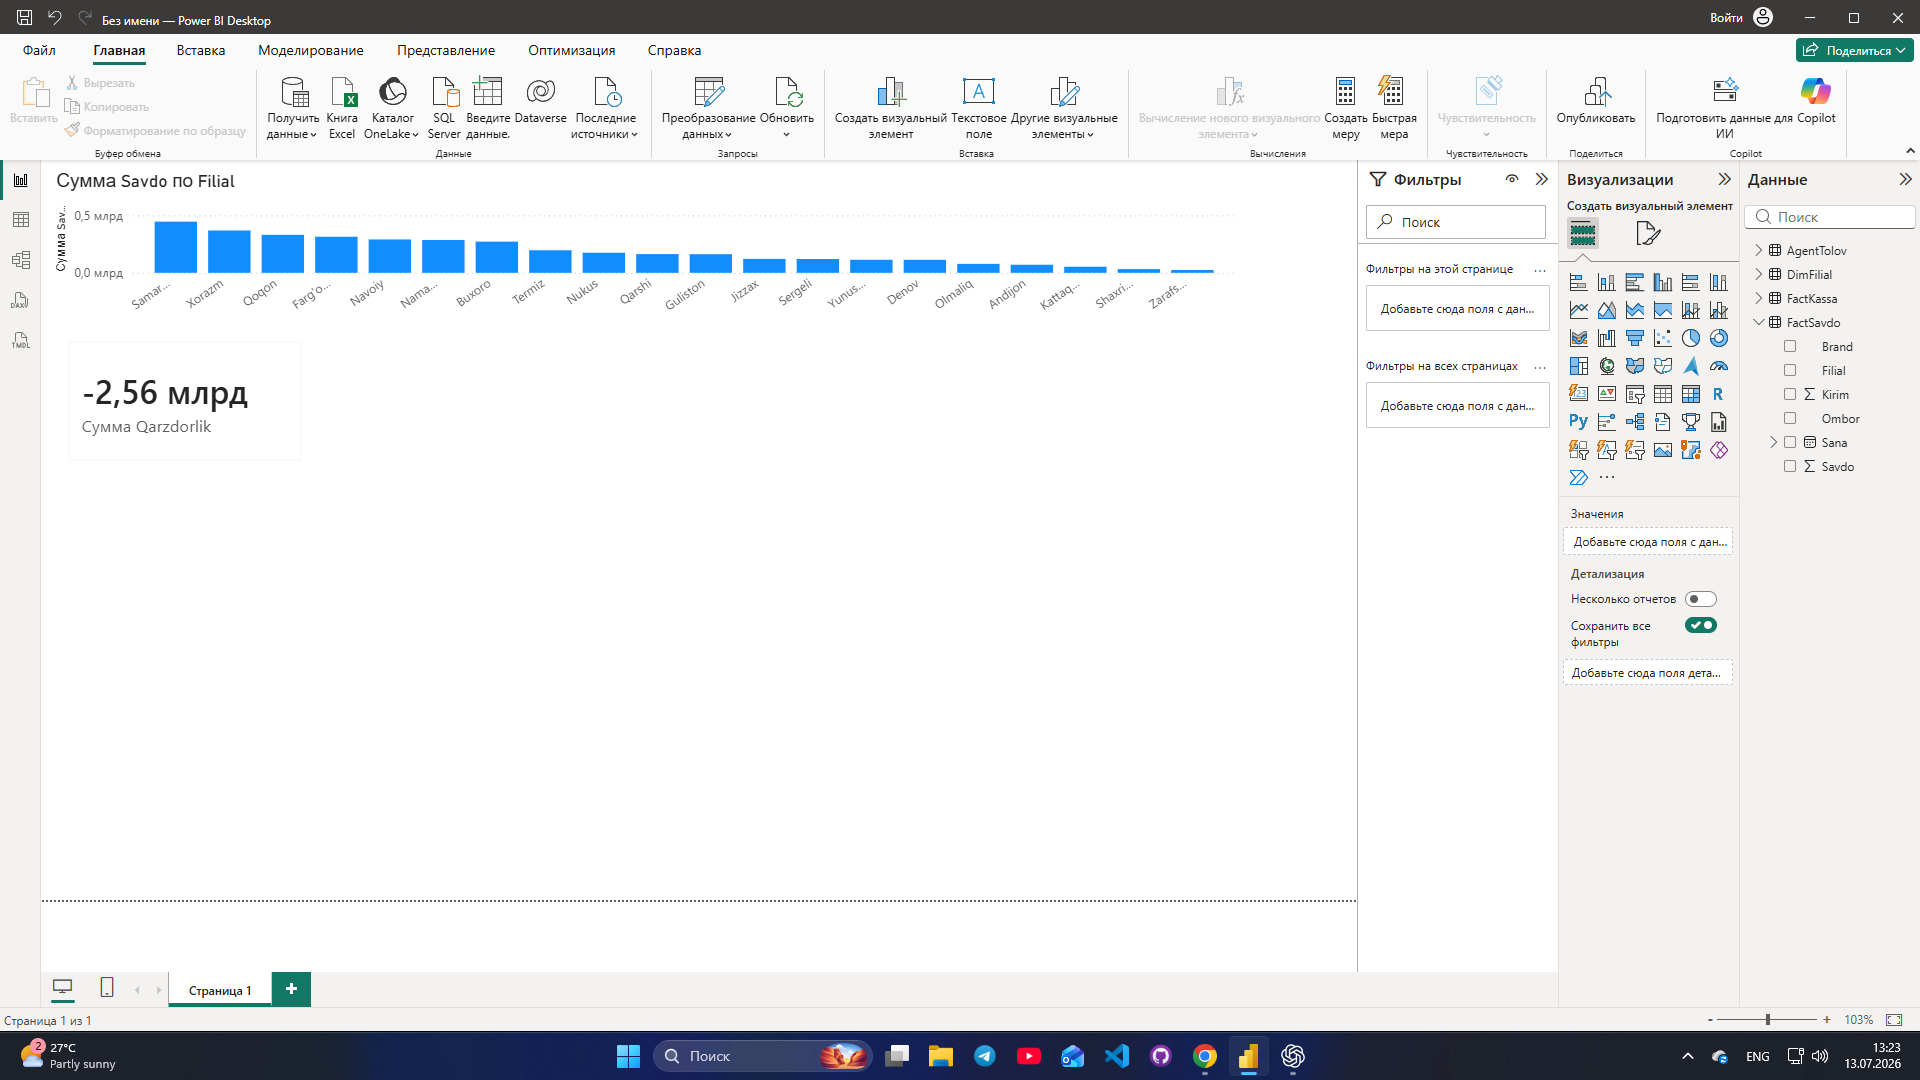

What the dashboard file says about the page in this screenshot:
{"tool":"powerbi","page":{"name":"Страница 1","canvas":[1280,720],"ordinal":0},"visuals":[{"type":"cardVisual","fields":{"Data":["Sum(FactSavdo.Savdo)"]},"box":[9.7,0,260.7,125.5],"z":0},{"type":"cardVisual","fields":{"Data":["Sum(FactKassa.Qarzdorlik)"]},"box":[10,159.5,261,150],"z":2},{"type":"clusteredColumnChart","fields":{"Category":["FactSavdo.Filial"],"Y":["Sum(FactSavdo.Savdo)"]},"box":[10,10,1157,150],"z":3}]}

Visuals, with their boxes on the page's 1280x720 design canvas (x1, y1, x2, y2). These are canvas units, not pixel positions in the 1920x1080 screenshot, which may show the page scaled, cropped or inside an application window:
cardVisual - Sum(FactSavdo.Savdo): locate(10, 0, 270, 126)
cardVisual - Sum(FactKassa.Qarzdorlik): locate(10, 160, 271, 310)
clusteredColumnChart - FactSavdo.Filial x Sum(FactSavdo.Savdo): locate(10, 10, 1167, 160)
